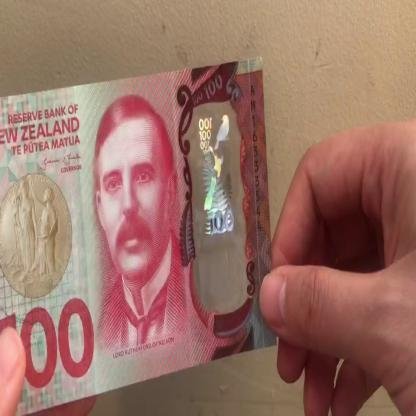100F: (195, 109, 242, 290)
